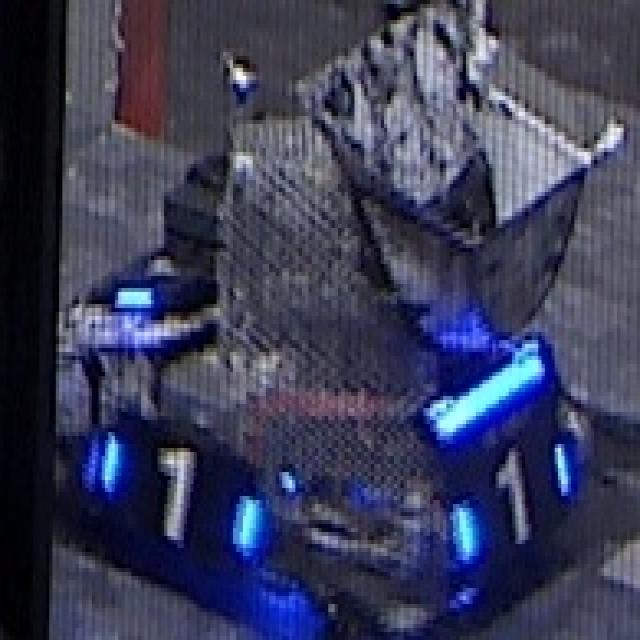B1: (95, 420, 269, 552), (453, 436, 568, 560)
